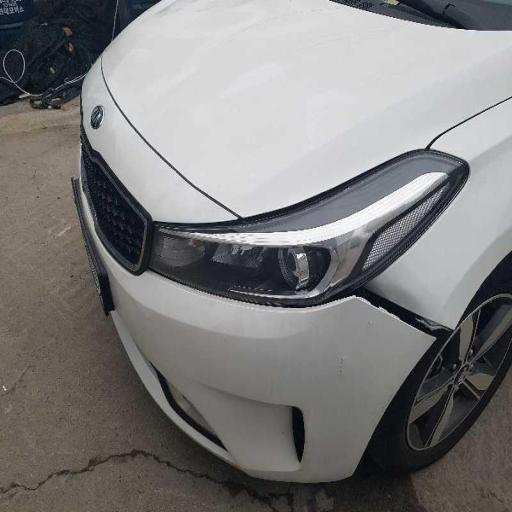broken: (226, 222, 488, 390)
